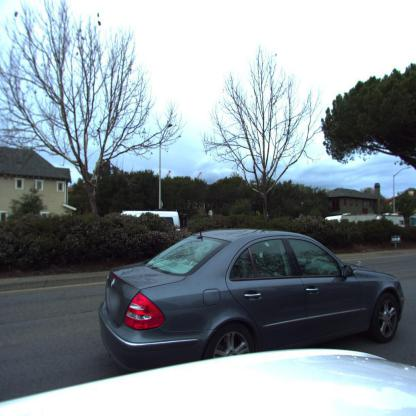car: (96, 229, 408, 368)
